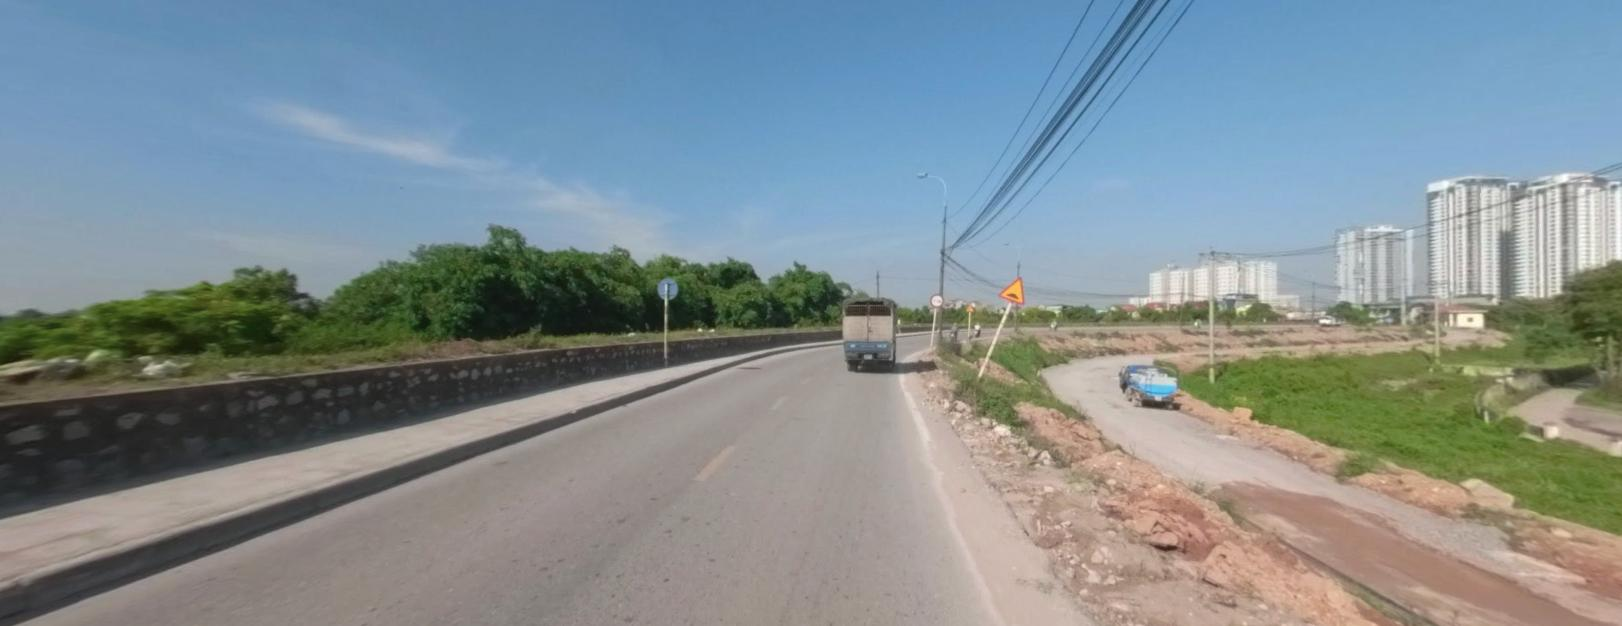Cam con lai: (928, 292, 943, 305)
Nguy hiem: (997, 275, 1023, 303), (965, 303, 974, 310)
